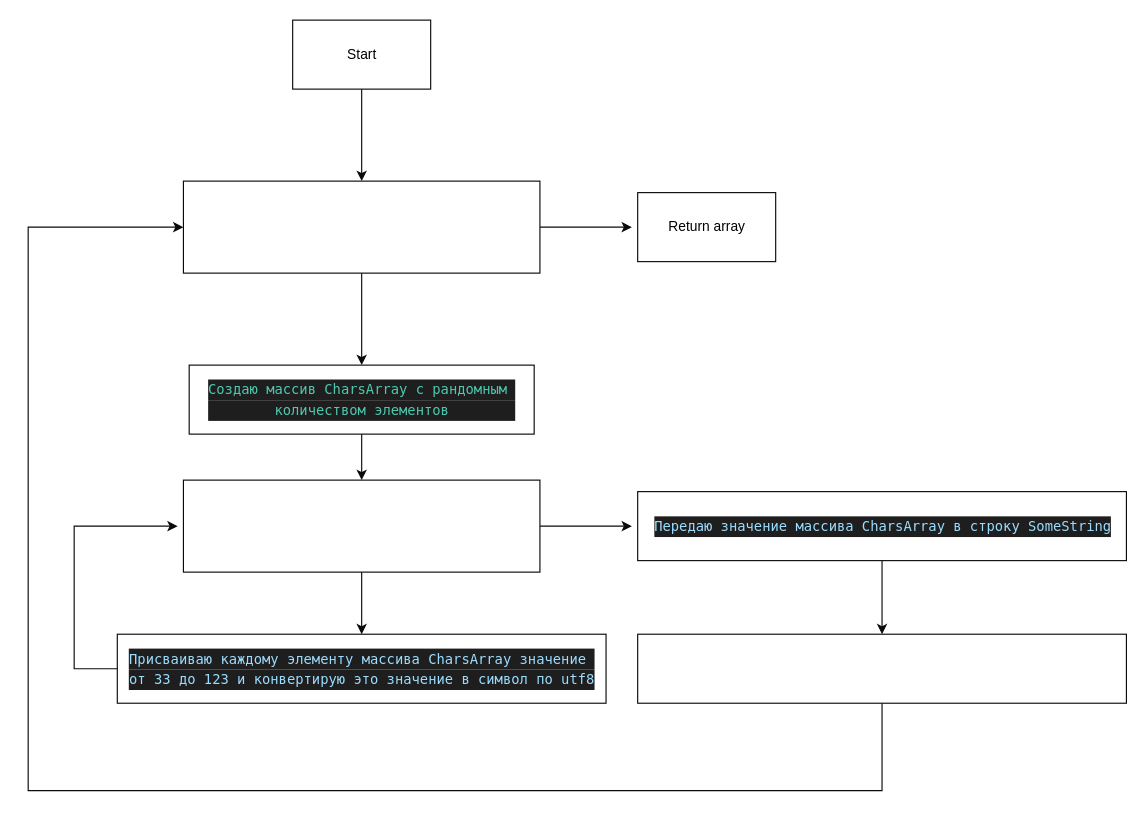
The diagram is 1147 pixels wide and 820 high, and some of its shapes have lost their labels. The box of each missing label's shape, as (x1, y1, x2, y2) in pixels:
for i = 0 ; i < array . Length ; i ++: (182, 180, 540, 273)
for k = 0 ; k < CharsArray . Length ; k ++: (182, 479, 540, 572)
Добавляю строку SomeString в массив array под i индексом: (637, 633, 1126, 703)
